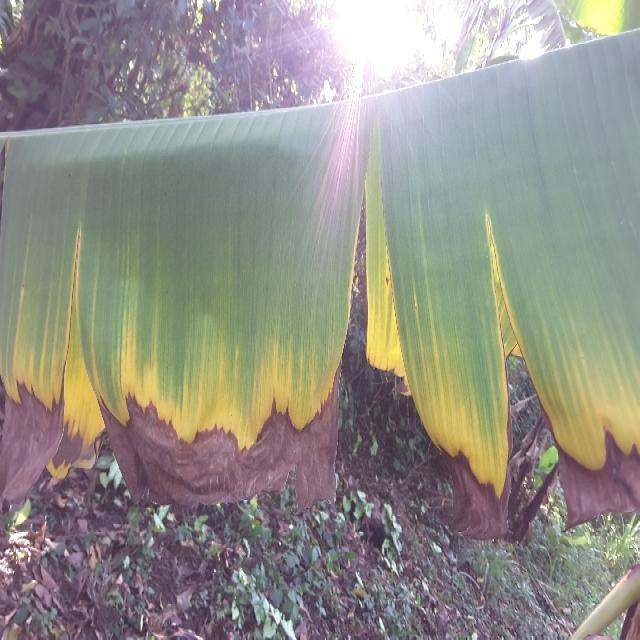Cordana: (0, 175, 370, 458), (397, 179, 640, 497), (348, 142, 412, 402), (555, 0, 629, 59)
